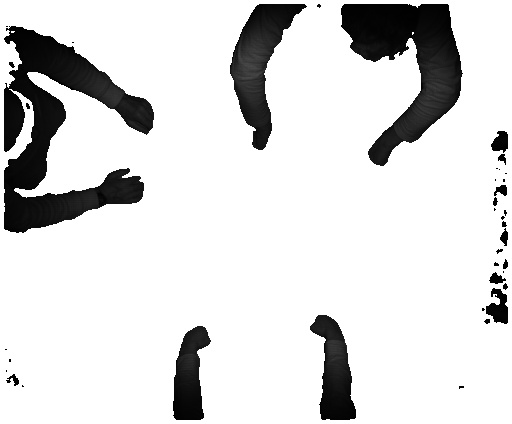fist: (118, 94, 159, 135), (304, 312, 338, 341), (187, 320, 215, 354), (368, 140, 397, 167), (248, 129, 271, 151)
hand: (103, 168, 143, 215)
